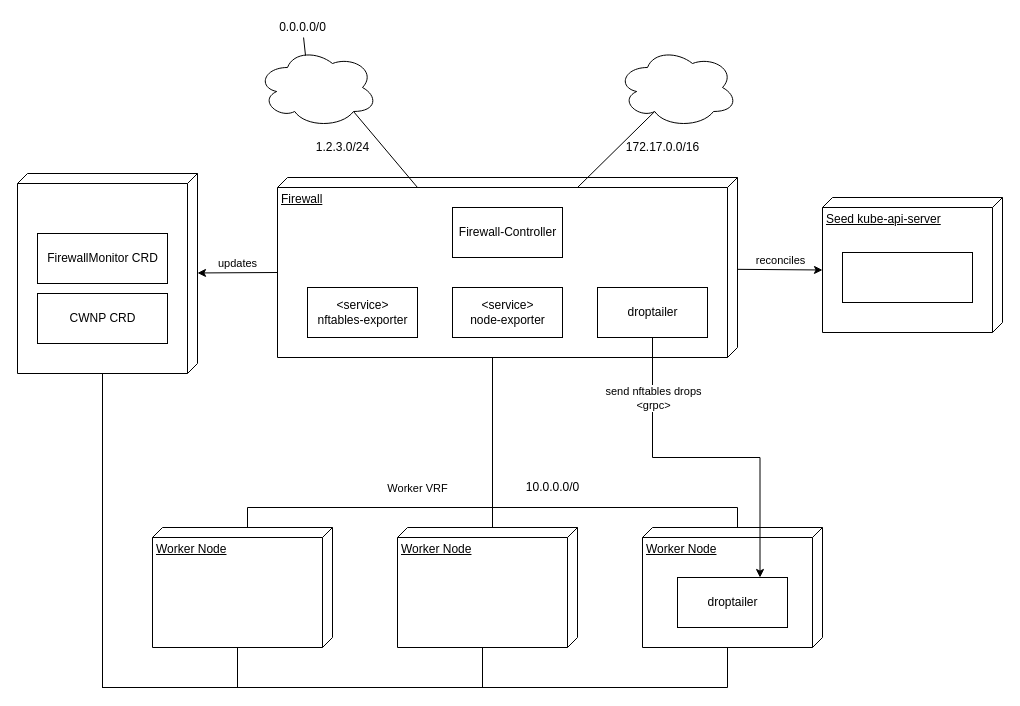
Image size: 1020x706. Some labels were removed from this diagram. Each missing label, with the box of its shape:
Firewall CRD: (842, 252, 972, 302)
Internet VRF: (256, 46, 378, 128)
Legacy VRF: (616, 46, 738, 128)
Shoot kube-api-server: (16, 172, 198, 374)
